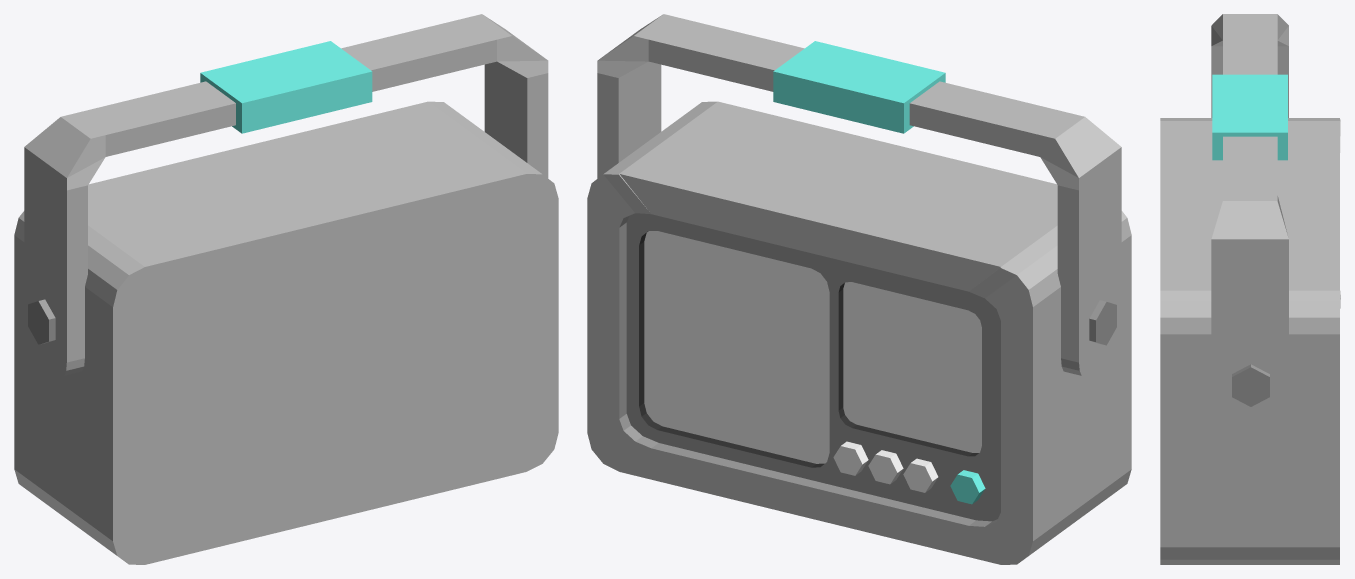
Rendered from radio2_V2.fbx.
3 views of the same model, side by side, from view 1: azimuth 30°, elevation 25°; view 2: azimuth 150°, elevation 25°; view 3: azimuth 270°, elevation 25° (orthographic). The views are drawn at different scales.
Parts seen in each view (by area): view 1: Cube.005; view 2: Cube.005; view 3: Cube.005.
Part boxes in pixels (x1,y1,x2,y2): Cube.005: [14, 14, 558, 564]; Cube.005: [587, 14, 1131, 564]; Cube.005: [1160, 14, 1340, 564].
Size of the model in its own units: 408 by 323 by 142.
